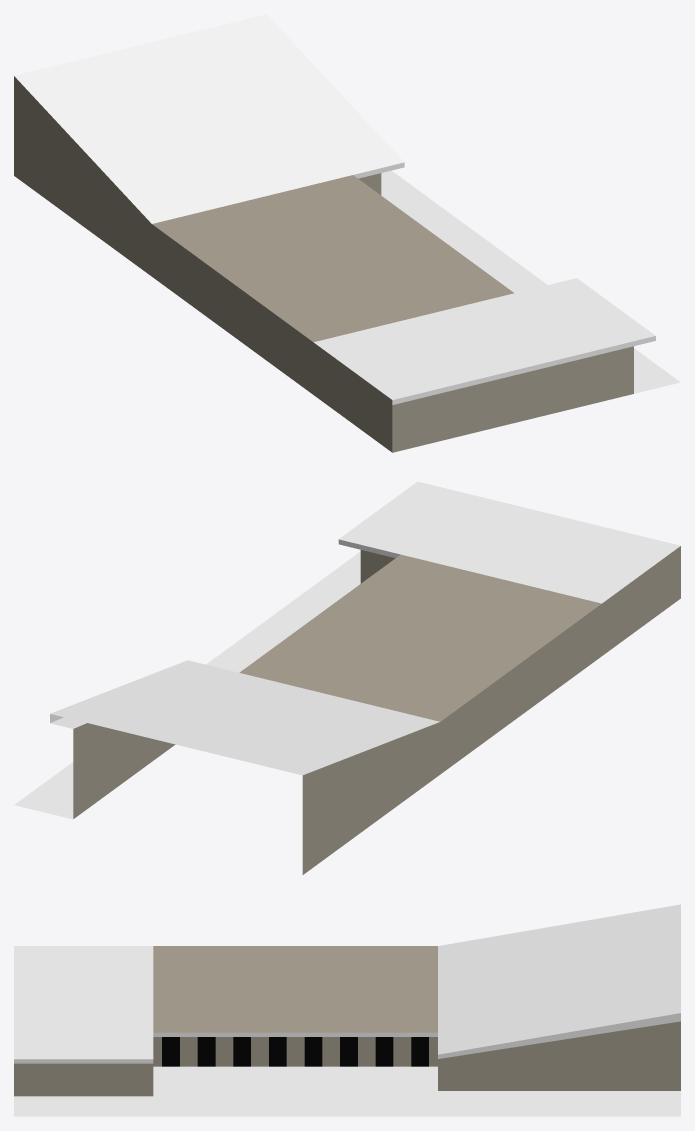
The model's file is APBuildingA.fbx.
The picture shows the model from 3 angles, top to bottom: view 1: azimuth 30°, elevation 25°; view 2: azimuth 150°, elevation 25°; view 3: azimuth 270°, elevation 25°; orthographic projection. The views are drawn at different scales.
Parts seen in each view (by area): view 1: APBuildingA; view 2: APBuildingA; view 3: APBuildingA.
Boxes of the visible parts, box(x1,y1,x2,y2) form: APBuildingA: box(14, 14, 680, 452); APBuildingA: box(14, 481, 680, 874); APBuildingA: box(14, 904, 680, 1116).
Size of the model in its own units: 3052 by 1011 by 6934.
1 material, 1 textured.
